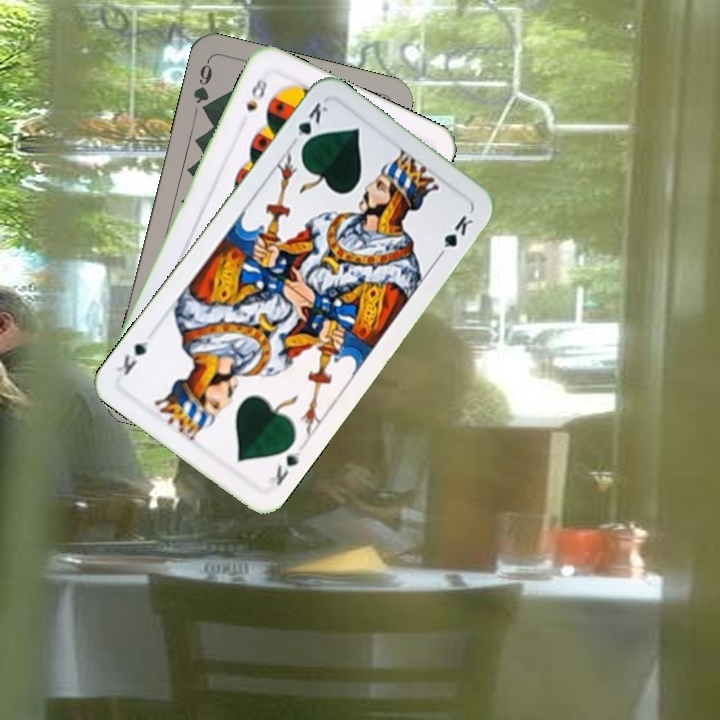G9: (189, 56, 215, 117)
GK: (287, 98, 331, 153), (264, 447, 306, 488)
S8: (242, 73, 270, 114)
